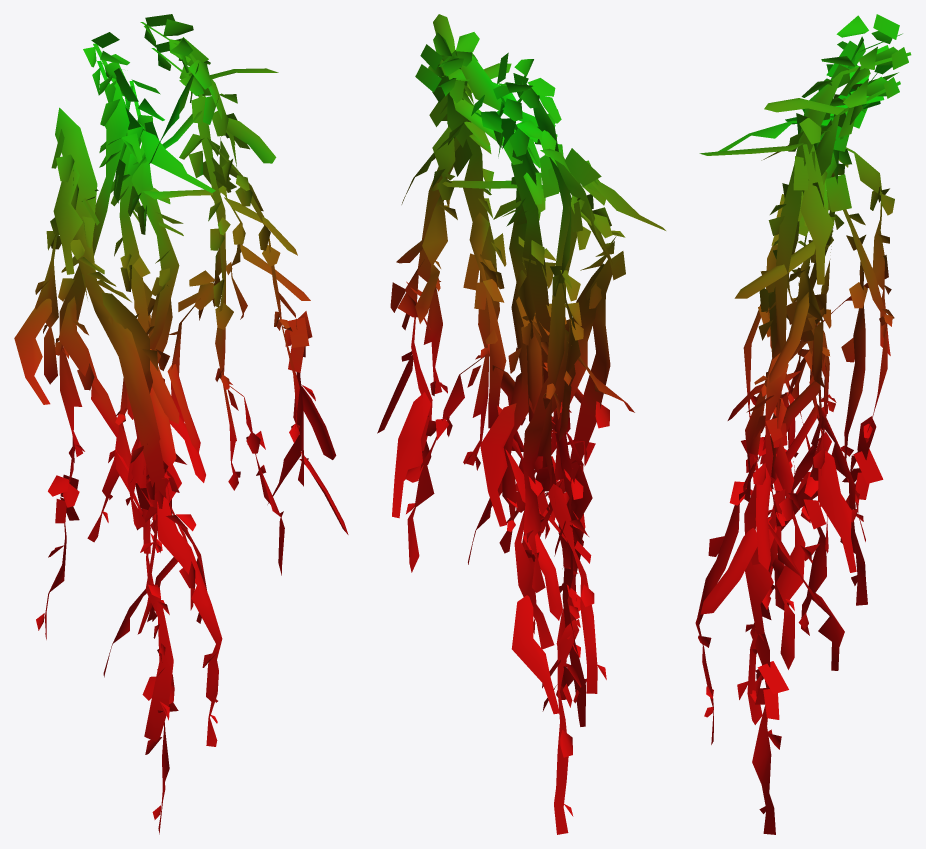
File: Var3_LOD5.fbx
3 views of the same model, side by side, from view 1: azimuth 30°, elevation 25°; view 2: azimuth 150°, elevation 25°; view 3: azimuth 270°, elevation 25° (orthographic). The views are drawn at different scales.
Visible parts, largest first — view 1: _7l1y_Var3_LOD5; view 2: _7l1y_Var3_LOD5; view 3: _7l1y_Var3_LOD5.
Boxes of the visible parts, x1,y1,x2,y2 form: _7l1y_Var3_LOD5: (14,14,348,834); _7l1y_Var3_LOD5: (377,14,665,834); _7l1y_Var3_LOD5: (695,14,911,834).
Size of the model in its own units: 73.61 by 199 by 47.38.
